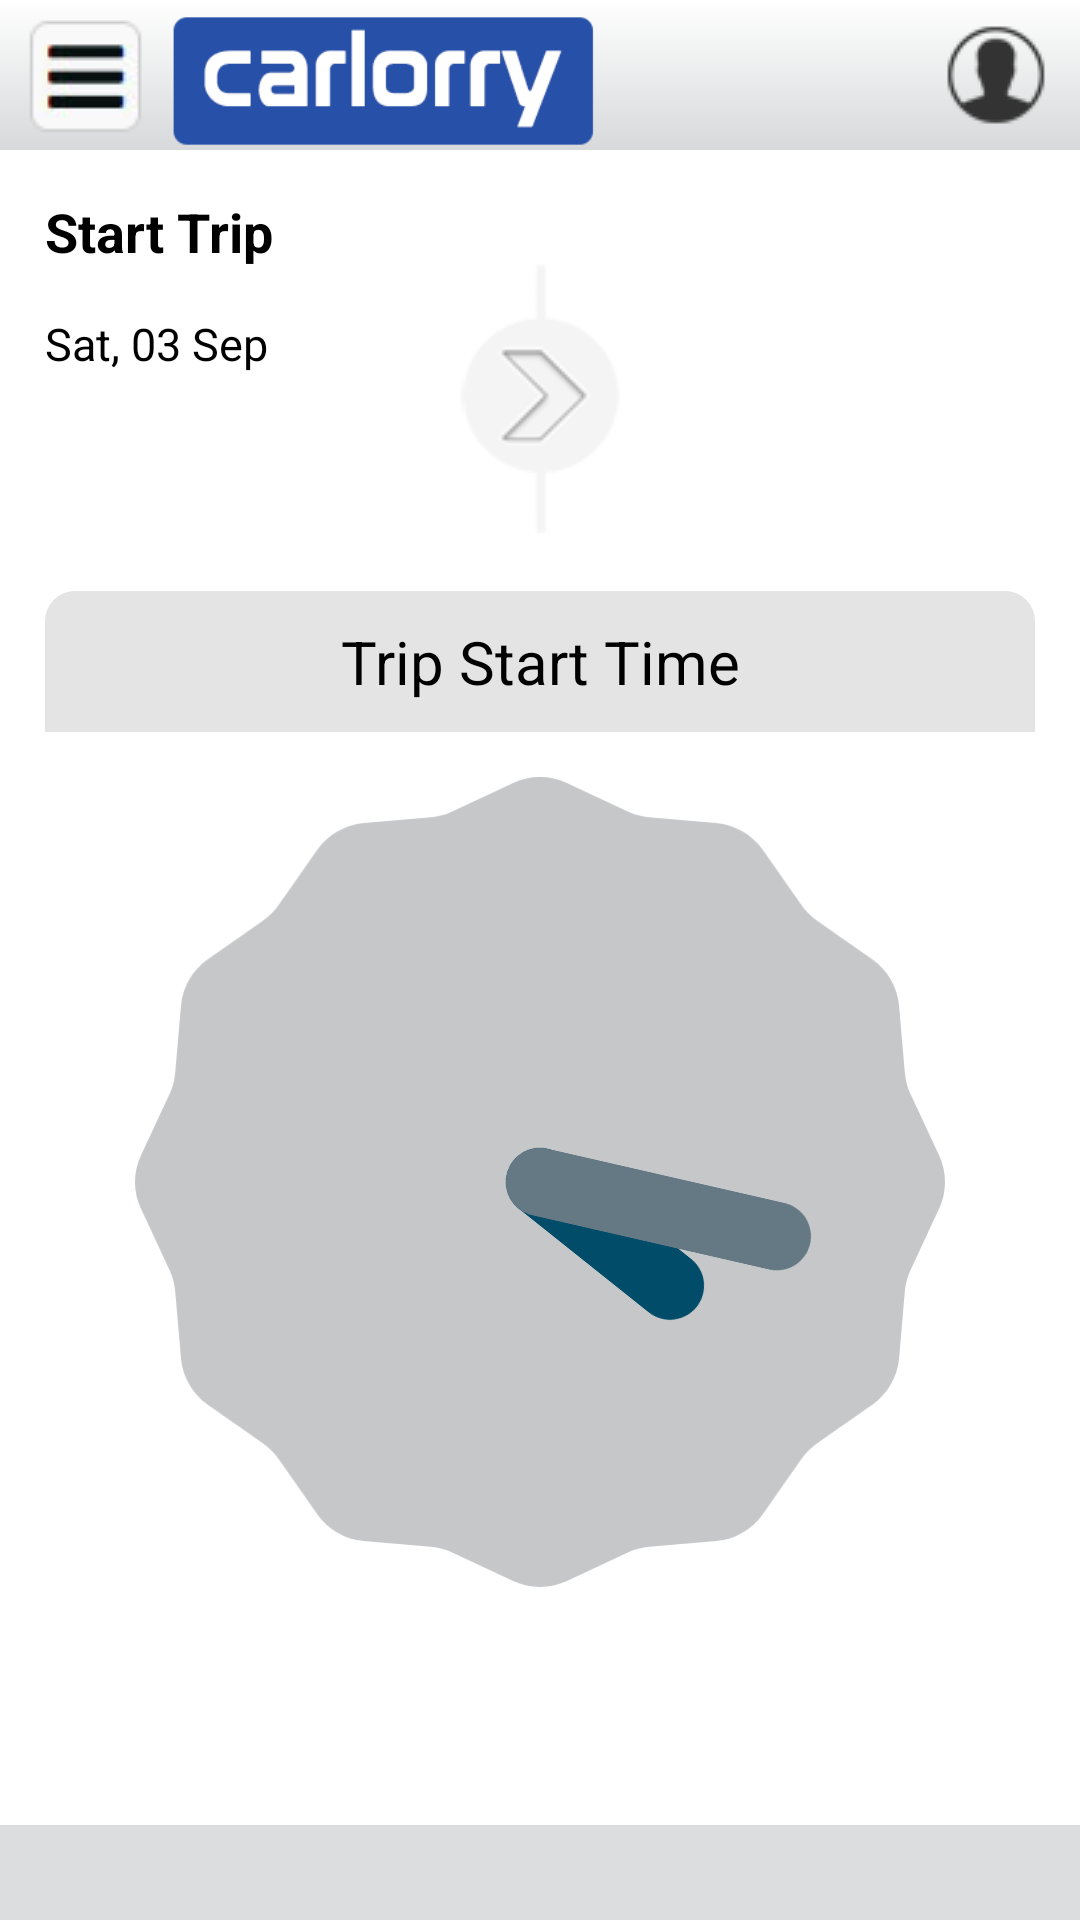

Screen size 1080 x 1920. Icon name, then its box in pixels as (x1, y1, x2, y2):
circle seperator: (502, 349, 587, 442)
list main: (3, 20, 165, 150)
user log: (915, 26, 1077, 150)
